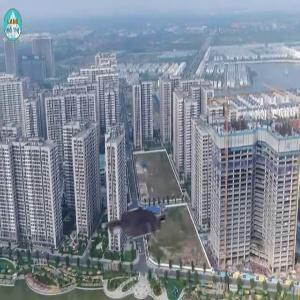drone: (92, 177, 188, 273)
